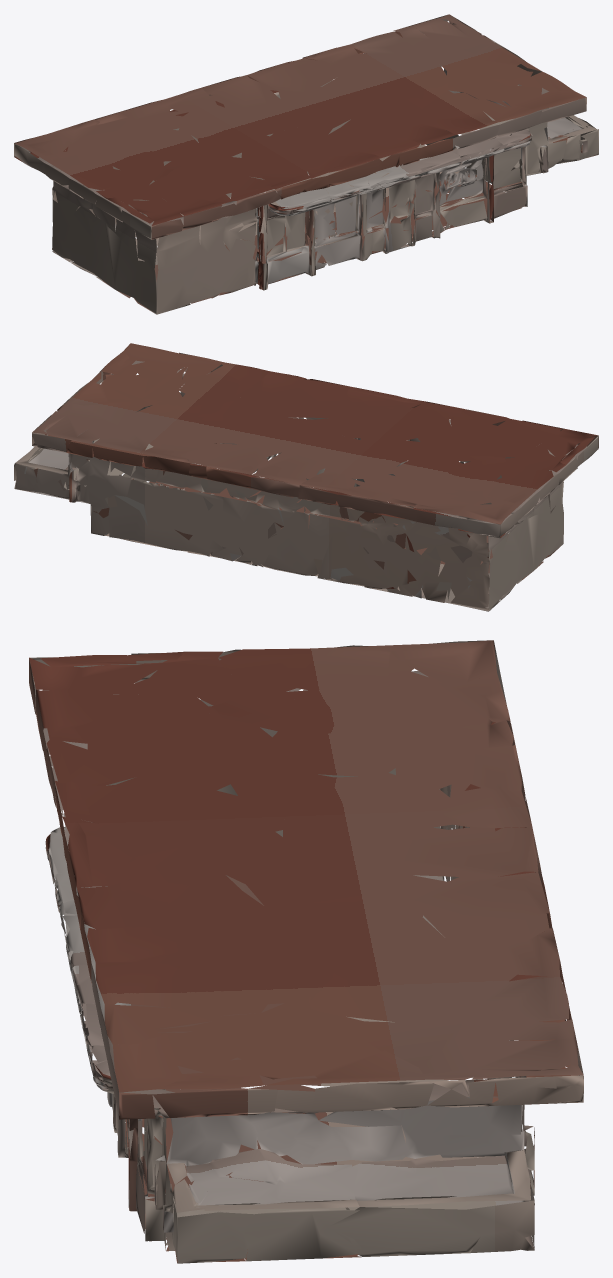
Rendered from diner.glb.
The picture shows the model from 3 angles, top to bottom: view 1: azimuth 30°, elevation 25°; view 2: azimuth 150°, elevation 25°; view 3: azimuth 270°, elevation 25°; orthographic projection. The views are drawn at different scales.
Visible parts, largest first — view 1: LO.001; view 2: LO.001; view 3: LO.001.
Part boxes in pixels (left/top/right/bottom): LO.001: left=14, top=14, right=598, bottom=314; LO.001: left=14, top=343, right=598, bottom=611; LO.001: left=29, top=640, right=583, bottom=1263.
Size of the model in its own units: 1.96 by 0.392 by 0.9604.
Materials: 1 (1 with a texture image).
